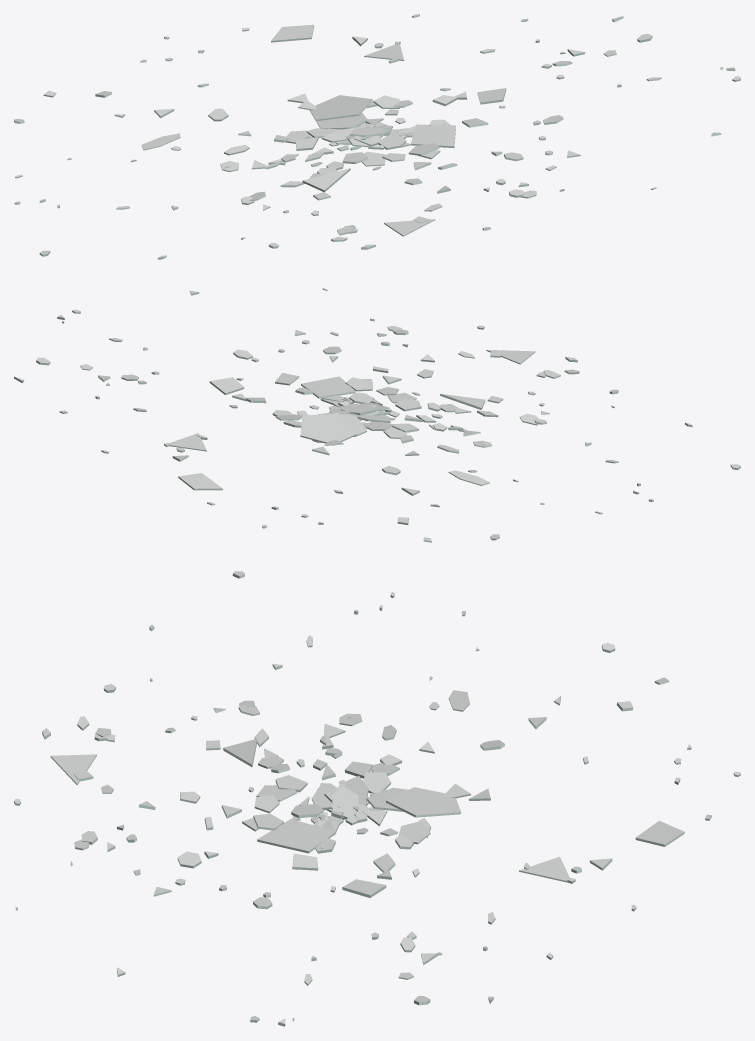
The model's file is GroundGlass_Threshold.fbx.
3 renders of one model, top to bottom at view 1: azimuth 30°, elevation 25°; view 2: azimuth 150°, elevation 25°; view 3: azimuth 270°, elevation 25°, orthographic. The views are drawn at different scales.
Parts seen in each view (by area): view 1: GroundGlass_Threshold; view 2: GroundGlass_Threshold; view 3: GroundGlass_Threshold.
Part boxes in pixels (x1,y1,x2,y2): GroundGlass_Threshold: [14, 14, 740, 259]; GroundGlass_Threshold: [14, 288, 740, 542]; GroundGlass_Threshold: [14, 571, 740, 1026].
Bounding box in the file's own units: 226 × 2.97 × 154.
